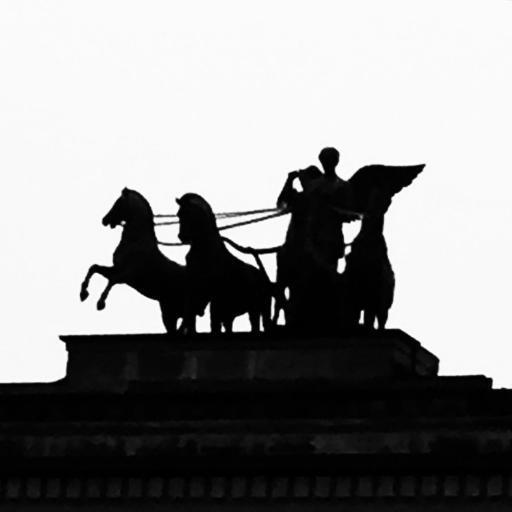horse: (76, 184, 206, 336), (173, 193, 272, 336)
